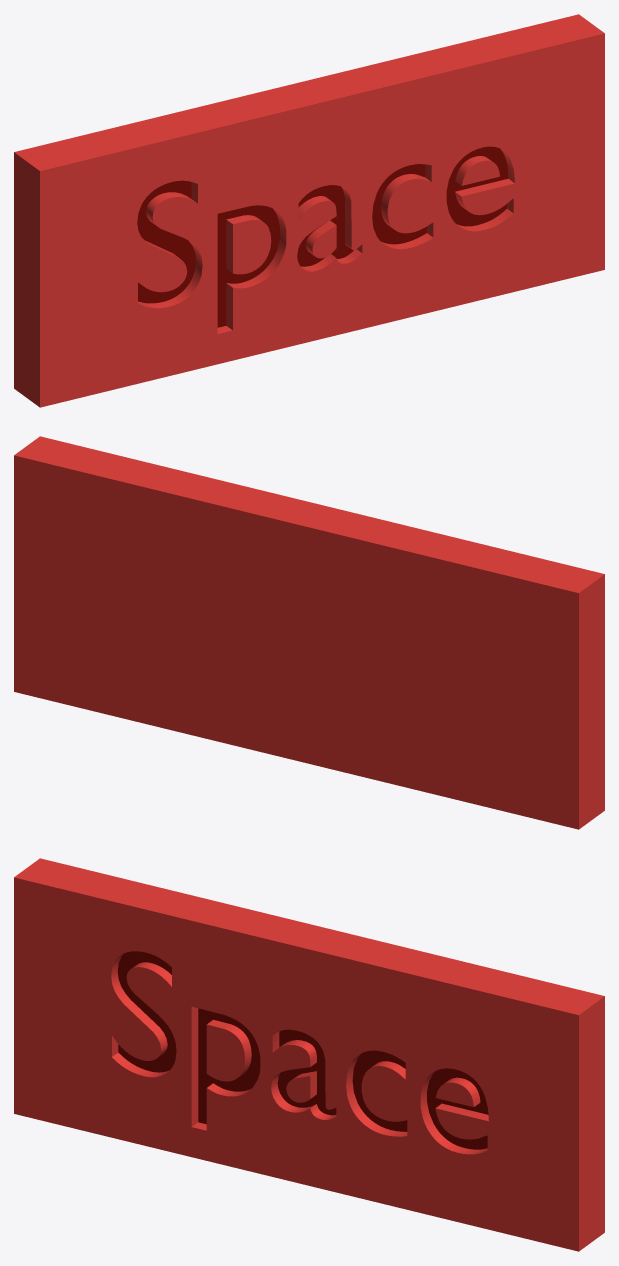
File: button_Space.fbx
The picture shows the model from 3 angles, top to bottom: view 1: azimuth 30°, elevation 25°; view 2: azimuth 150°, elevation 25°; view 3: azimuth 330°, elevation 25°; orthographic projection.
Parts seen in each view (by area): view 1: 立方体.009; view 2: 立方体.009; view 3: 立方体.009.
Part boxes in pixels (x1,y1,x2,y2): 立方体.009: (14,14,604,407); 立方体.009: (14,436,604,829); 立方体.009: (14,858,604,1251).
Size of the model in its own units: 500 by 200 by 40.
